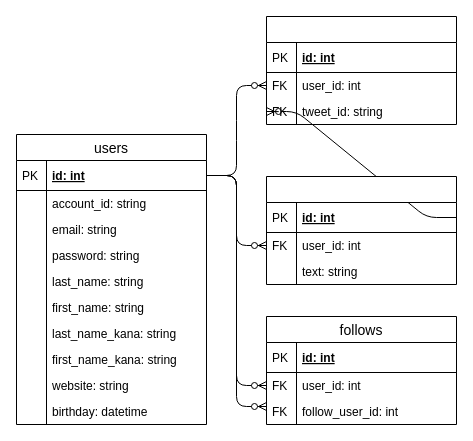
This 473x441 diagram has some shape labels left out. Each missing label, with the box of its shape:
favorite_tweets: (266, 16, 456, 124)
tweets: (266, 176, 456, 284)
